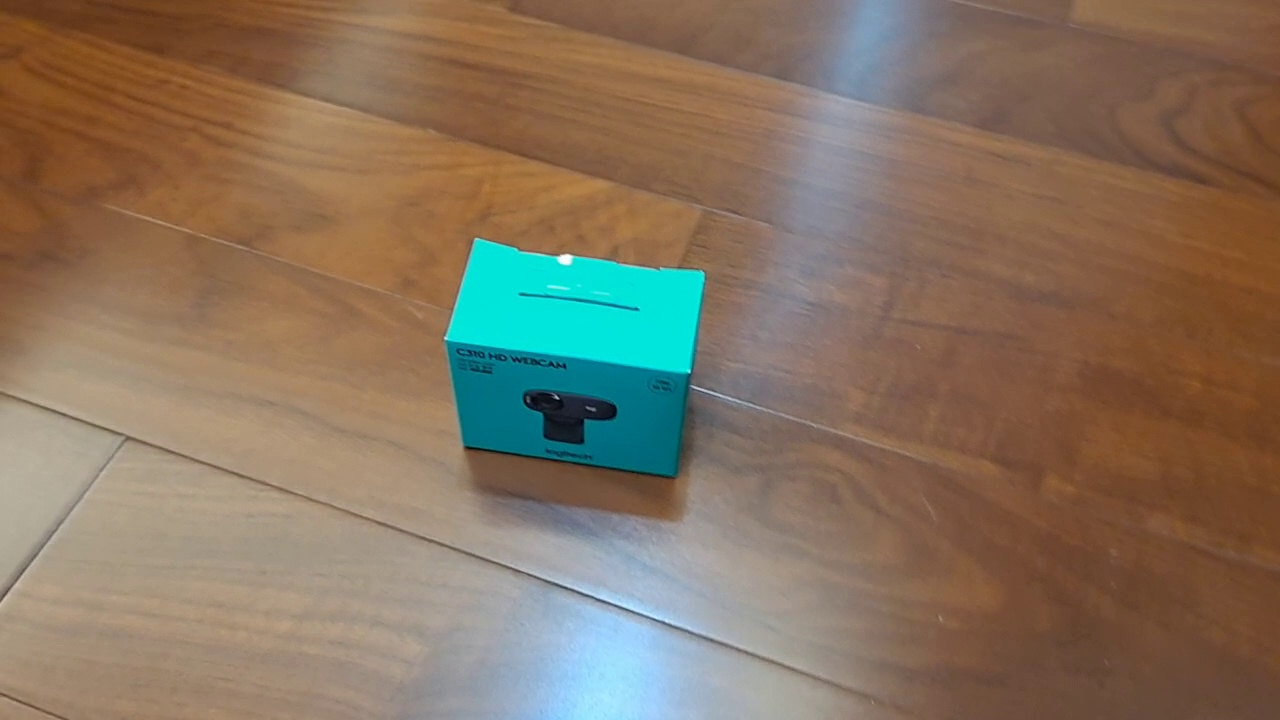webcam: (442, 237, 707, 480)
